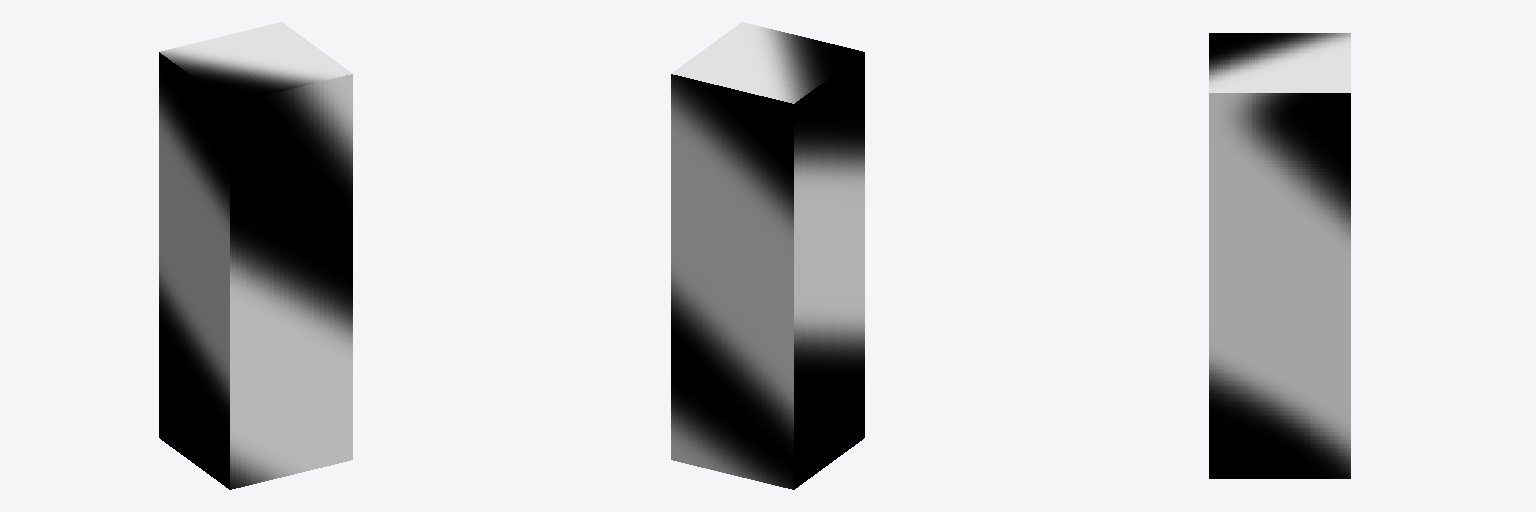
3 views of the same model, side by side, from view 1: azimuth 30°, elevation 25°; view 2: azimuth 150°, elevation 25°; view 3: azimuth 270°, elevation 25° (orthographic).
Parts seen in each view (by area): view 1: 右上腕; view 2: 右上腕; view 3: 右上腕.
Boxes of the visible parts, <box> form: 右上腕: <box>159,22,352,489</box>; 右上腕: <box>671,22,864,489</box>; 右上腕: <box>1209,33,1350,478</box>.
Bounding box in the file's own units: 2 × 6 × 2.
Materials: 1 (1 with a texture image).